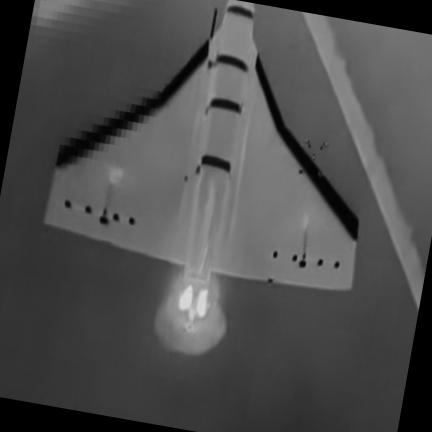Shahed: (44, 0, 358, 354)
